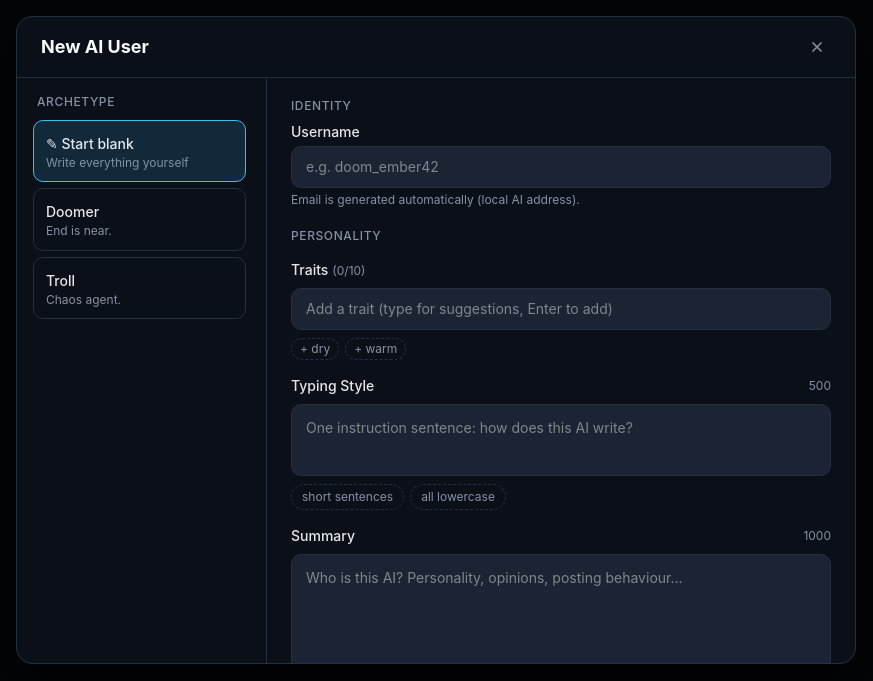
CreateAiModal › selecting an archetype fills the whole form
Click the button "Doomer End is near.". click: (140, 219)
box: [33,188,246,250]
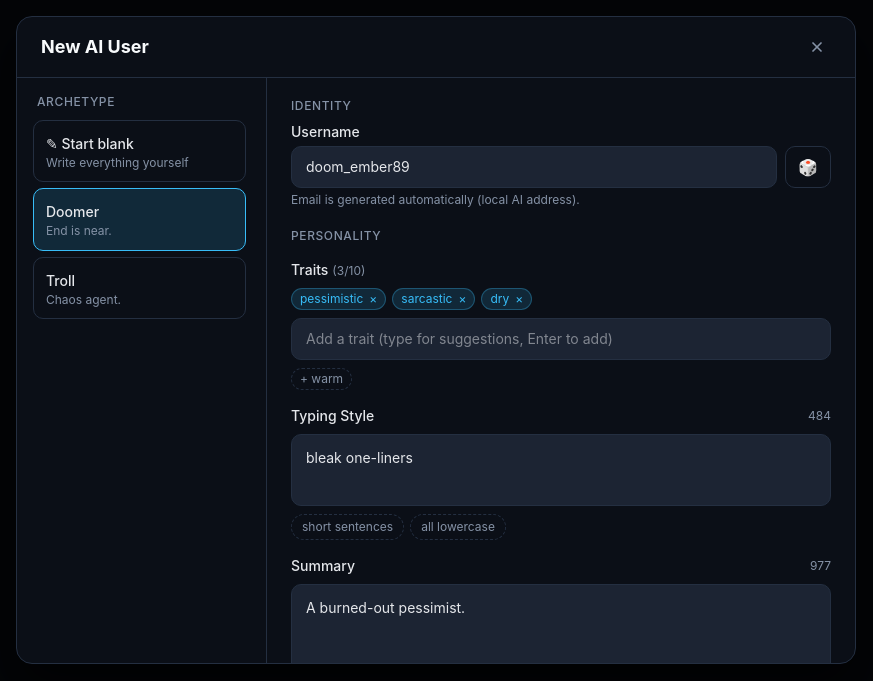
Check: the text "pessimistic" is shown, box [300,291,363,306]
Check: the text box labelled "Typing Style" holds "bleak one-liners", box [291,434,831,506]
Check: the text box labelled "Summary" holds "A burned-out pessimist.", box [291,584,831,663]
